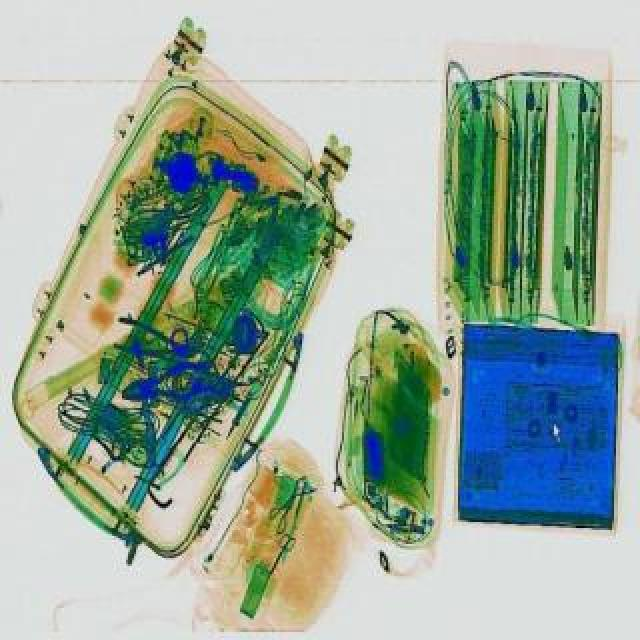wrench: (160, 344, 260, 424), (116, 354, 212, 412), (110, 314, 200, 368)
